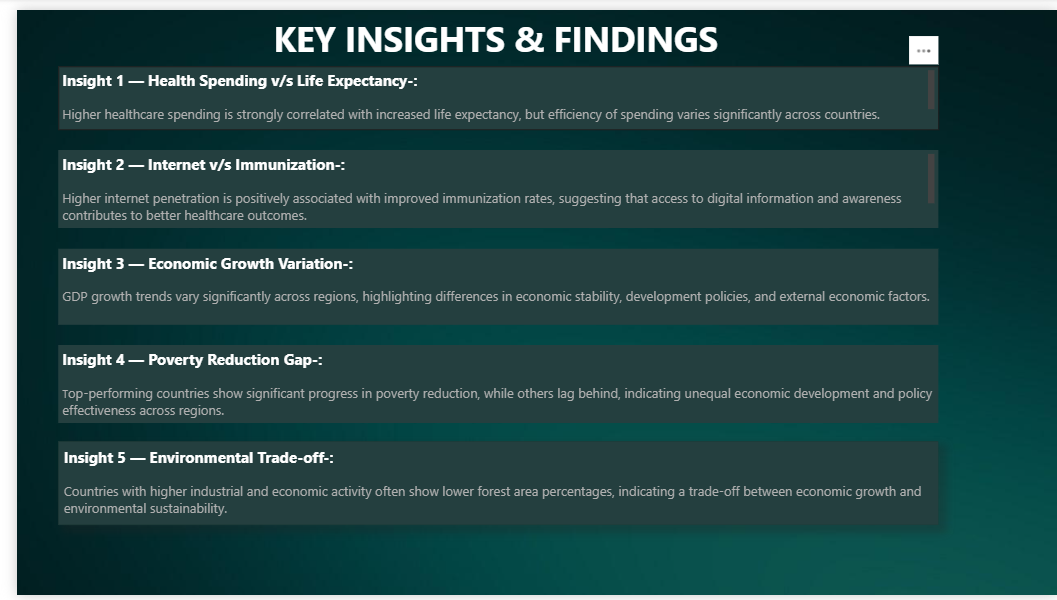

The page's visual inventory and layout, read from the dashboard file:
{"tool":"powerbi","page":{"name":"Insights / Key Findings","canvas":[1280,720],"ordinal":1},"visuals":[{"type":"textbox","box":[311.3,0,566.2,87.3],"z":0},{"type":"textbox","box":[51.5,68.7,1083.4,78.5],"z":1000},{"type":"textbox","box":[51.5,173,1083.4,95.7],"z":2000},{"type":"textbox","box":[51.5,294.5,1083.4,93.3],"z":3000},{"type":"textbox","box":[51.5,412.3,1083.4,95.7],"z":4000},{"type":"textbox","box":[51.5,531.3,1083.4,103.1],"z":5000}]}

Visuals, with their boxes in screenshot pixels (x1, y1, x2, y2), scaled from the page's 1280x720 canvas onto the 1057x600 screenshot:
textbox: (257,0,725,73)
textbox: (43,57,937,123)
textbox: (43,144,937,224)
textbox: (43,245,937,323)
textbox: (43,344,937,423)
textbox: (43,443,937,529)
